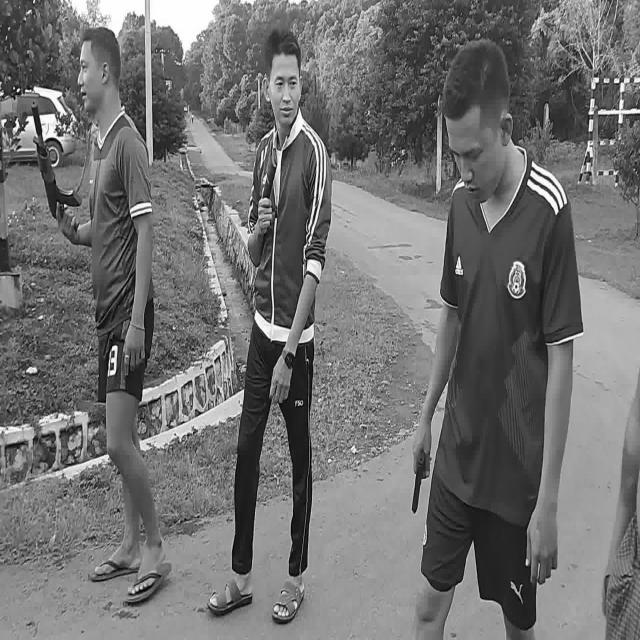gun: (30, 100, 80, 233), (411, 453, 426, 512)
